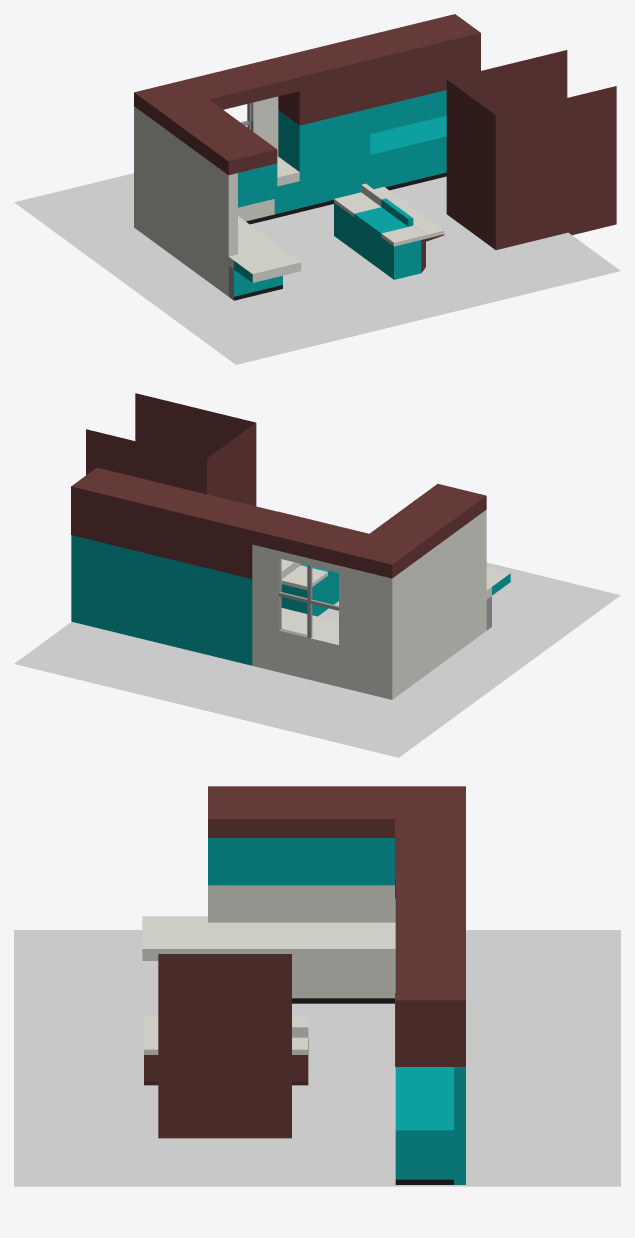
Rendered from game export2.fbx.
3 renders of one model, top to bottom at view 1: azimuth 30°, elevation 25°; view 2: azimuth 150°, elevation 25°; view 3: azimuth 270°, elevation 25°, orthographic. The views are drawn at different scales.
Parts seen in each view (by area): view 1: pPlane1, pPlane5, polySurface41, polySurface43, polySurface27, polySurface4, polySurface39, polySurface17, polySurface22; view 2: pPlane1, polySurface41, polySurface39, polySurface43, pPlane5, polySurface27, polySurface17, pCube7; view 3: pPlane1, pPlane5, polySurface41, polySurface27, polySurface43, polySurface22, polySurface39, polySurface17.
Boxes of the visible parts, x1,y1,x2,y2 form: pPlane1: [14, 173, 620, 364]; pPlane5: [446, 50, 616, 249]; polySurface41: [134, 96, 301, 300]; polySurface43: [274, 14, 480, 125]; polySurface27: [134, 58, 299, 175]; polySurface4: [278, 108, 370, 211]; polySurface39: [370, 90, 446, 190]; polySurface17: [334, 183, 444, 279]; polySurface22: [238, 163, 277, 207]; pPlane1: [14, 506, 620, 757]; polySurface41: [252, 510, 510, 699]; polySurface39: [71, 535, 252, 665]; polySurface43: [71, 467, 277, 578]; pPlane5: [86, 393, 256, 506]; polySurface27: [252, 484, 486, 578]; polySurface17: [281, 559, 338, 616]; pCube7: [279, 565, 338, 638]; pPlane1: [14, 930, 620, 1186]; pPlane5: [158, 954, 291, 1138]; polySurface41: [142, 885, 395, 1003]; polySurface27: [208, 786, 465, 898]; polySurface43: [395, 879, 465, 1066]; polySurface22: [208, 838, 394, 885]; polySurface39: [395, 1067, 465, 1184]; polySurface17: [144, 1016, 308, 1085].
Size of the model in its own units: 55.13 by 17 by 49.
